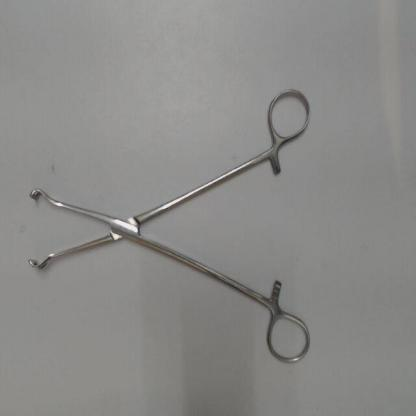8 Babcock Tissue Forceps: (18, 82, 320, 369)
